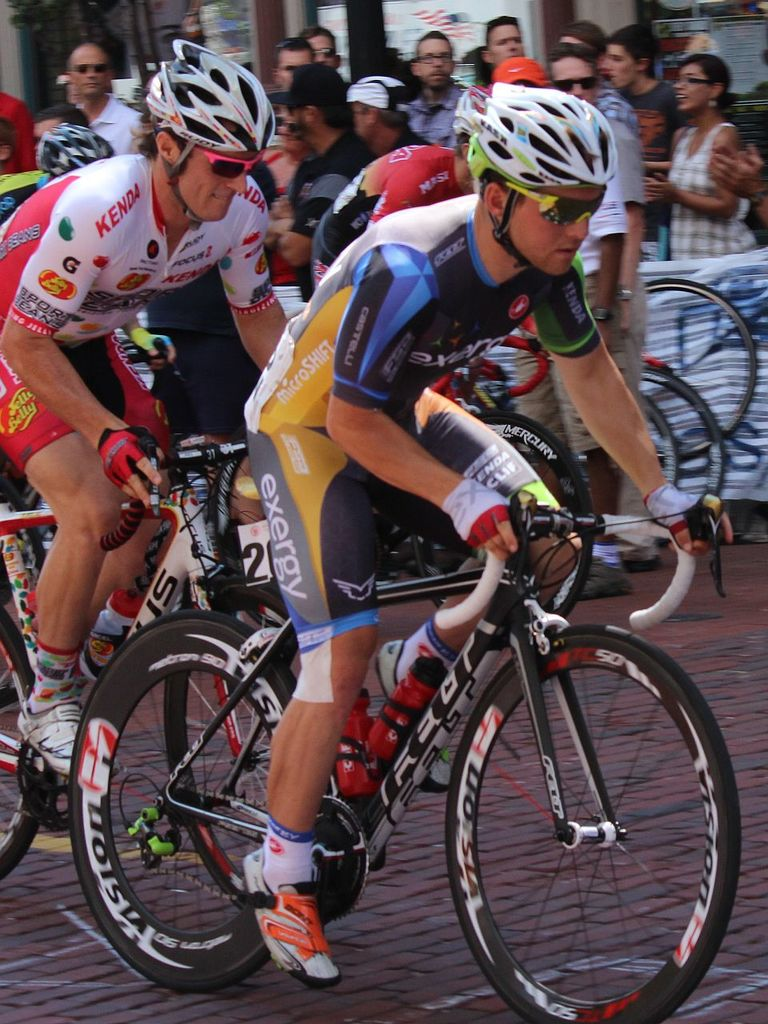Bike_toward: (88, 536, 697, 1002)
